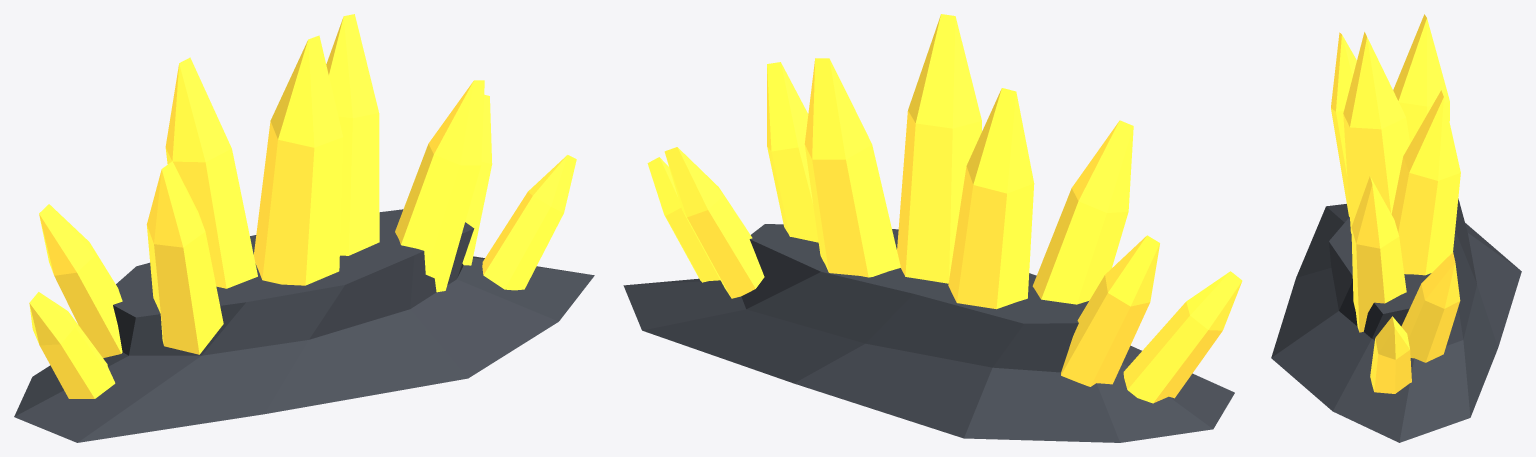
Rendered from PROP_05_WideCrystalFormation.fbx.
The picture shows the model from 3 angles, left to right: view 1: azimuth 30°, elevation 25°; view 2: azimuth 150°, elevation 25°; view 3: azimuth 270°, elevation 25°; orthographic projection. The views are drawn at different scales.
Parts seen in each view (by area): view 1: PROP_05_WideCrystalFormation; view 2: PROP_05_WideCrystalFormation; view 3: PROP_05_WideCrystalFormation.
Part boxes in pixels (left/top/right/bottom): PROP_05_WideCrystalFormation: left=14, top=14, right=594, bottom=442; PROP_05_WideCrystalFormation: left=623, top=14, right=1242, bottom=442; PROP_05_WideCrystalFormation: left=1271, top=14, right=1521, bottom=442.
Size of the model in its own units: 361 by 191 by 154.
